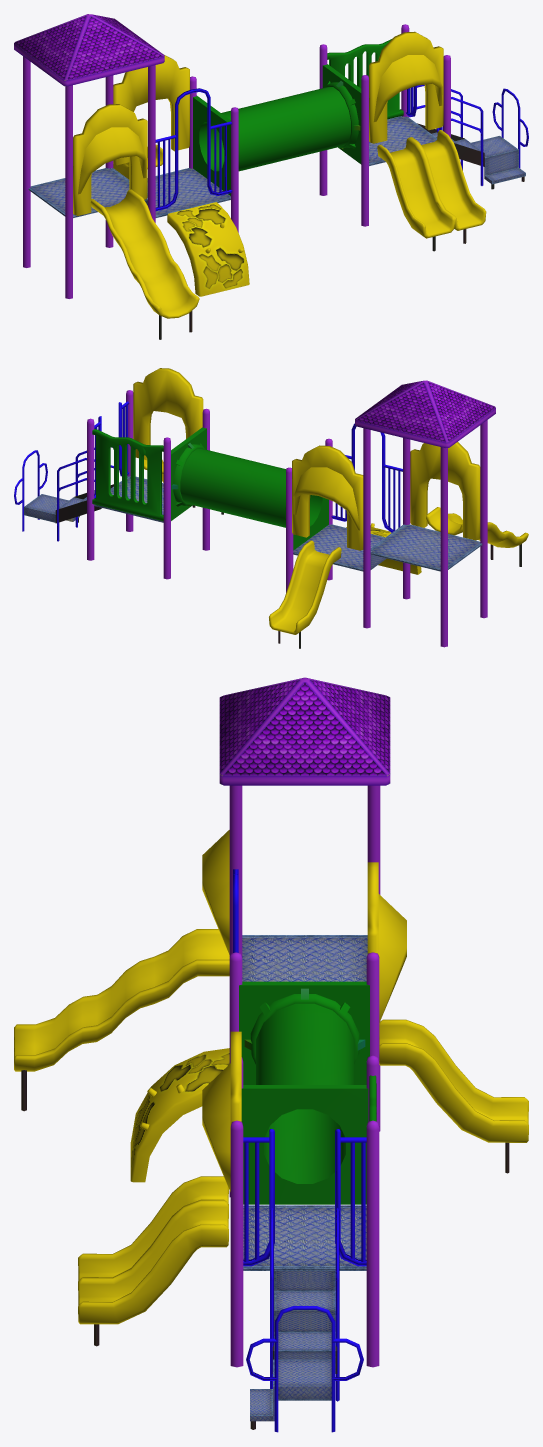
File: playground.dae
The picture shows the model from 3 angles, top to bottom: view 1: azimuth 30°, elevation 25°; view 2: azimuth 150°, elevation 25°; view 3: azimuth 270°, elevation 25°; orthographic projection. The views are drawn at different scales.
Parts seen in each view (by area): view 1: Playground; view 2: Playground; view 3: Playground.
Part boxes in pixels (left/top/right/bottom): Playground: left=14, top=14, right=528, bottom=339; Playground: left=14, top=368, right=528, bottom=648; Playground: left=14, top=677, right=528, bottom=1432.
Size of the model in its own units: 454 by 263 by 236.
